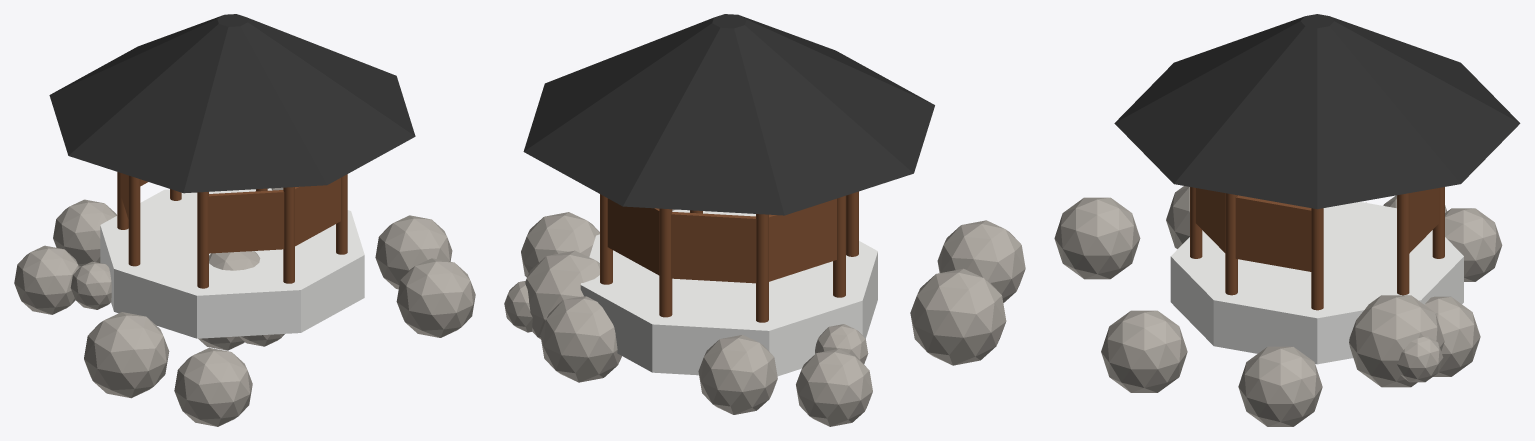
File: 苏州拙政园.glb
3 views of the same model, side by side, from view 1: azimuth 30°, elevation 25°; view 2: azimuth 150°, elevation 25°; view 3: azimuth 270°, elevation 25° (orthographic). The views are drawn at different scales.
Visible parts, largest first — view 1: 锥体, 柱体, 棱角球.005, 棱角球.003, 棱角球.012, 立方体.009, 棱角球.001, 棱角球.013, 棱角球.004, 立方体.012, 棱角球.007, 柱体.006 (+5 smaller); view 2: 锥体, 柱体, 棱角球.005, 立方体.003, 棱角球.009, 棱角球.004, 棱角球.013, 棱角球.012, 立方体.006, 棱角球.011, 立方体, 棱角球.001 (+7 smaller); view 3: 锥体, 柱体, 棱角球.003, 棱角球.012, 棱角球.011, 棱角球.001, 立方体.015, 棱角球.004, 棱角球.009, 棱角球.008, 立方体.012, 立方体 (+6 smaller).
Part boxes in pixels (left/top/right/bottom): 锥体: left=49, top=14, right=415, bottom=193; 柱体: left=100, top=188, right=364, bottom=338; 棱角球.005: left=84, top=312, right=169, bottom=398; 棱角球.003: left=396, top=258, right=475, bottom=337; 棱角球.012: left=174, top=347, right=252, bottom=426; 立方体.009: left=208, top=190, right=284, bottom=253; 棱角球.001: left=375, top=215, right=452, bottom=289; 棱角球.013: left=14, top=245, right=79, bottom=314; 棱角球.004: left=53, top=199, right=116, bottom=267; 立方体.012: left=295, top=178, right=340, bottom=246; 棱角球.007: left=70, top=261, right=111, bottom=309; 柱体.006: left=197, top=192, right=208, bottom=288; 锥体: left=523, top=14, right=934, bottom=215; 柱体: left=580, top=209, right=877, bottom=376; 棱角球.005: left=910, top=268, right=1006, bottom=365; 立方体.003: left=671, top=212, right=756, bottom=283; 棱角球.009: left=540, top=296, right=621, bottom=382; 棱角球.004: left=698, top=335, right=777, bottom=414; 棱角球.013: left=796, top=349, right=872, bottom=426; 棱角球.012: left=937, top=220, right=1025, bottom=302; 立方体.006: left=769, top=198, right=836, bottom=281; 棱角球.011: left=525, top=250, right=599, bottom=339; 立方体: left=607, top=198, right=659, bottom=275; 棱角球.001: left=521, top=212, right=599, bottom=277; 锥体: left=1114, top=14, right=1520, bottom=209; 柱体: left=1170, top=202, right=1463, bottom=364; 棱角球.003: left=1101, top=310, right=1187, bottom=392; 棱角球.012: left=1054, top=197, right=1140, bottom=279; 棱角球.011: left=1349, top=295, right=1444, bottom=387; 棱角球.001: left=1238, top=346, right=1322, bottom=426; 立方体.015: left=1235, top=195, right=1311, bottom=271; 棱角球.004: left=1445, top=208, right=1502, bottom=281; 棱角球.009: left=1424, top=296, right=1480, bottom=376; 棱角球.008: left=1396, top=336, right=1443, bottom=382; 立方体.012: left=1195, top=188, right=1225, bottom=252; 立方体: left=1409, top=188, right=1439, bottom=253.
Size of what is drawn, in the model's own units: 8.5 by 6.56 by 8.26.
